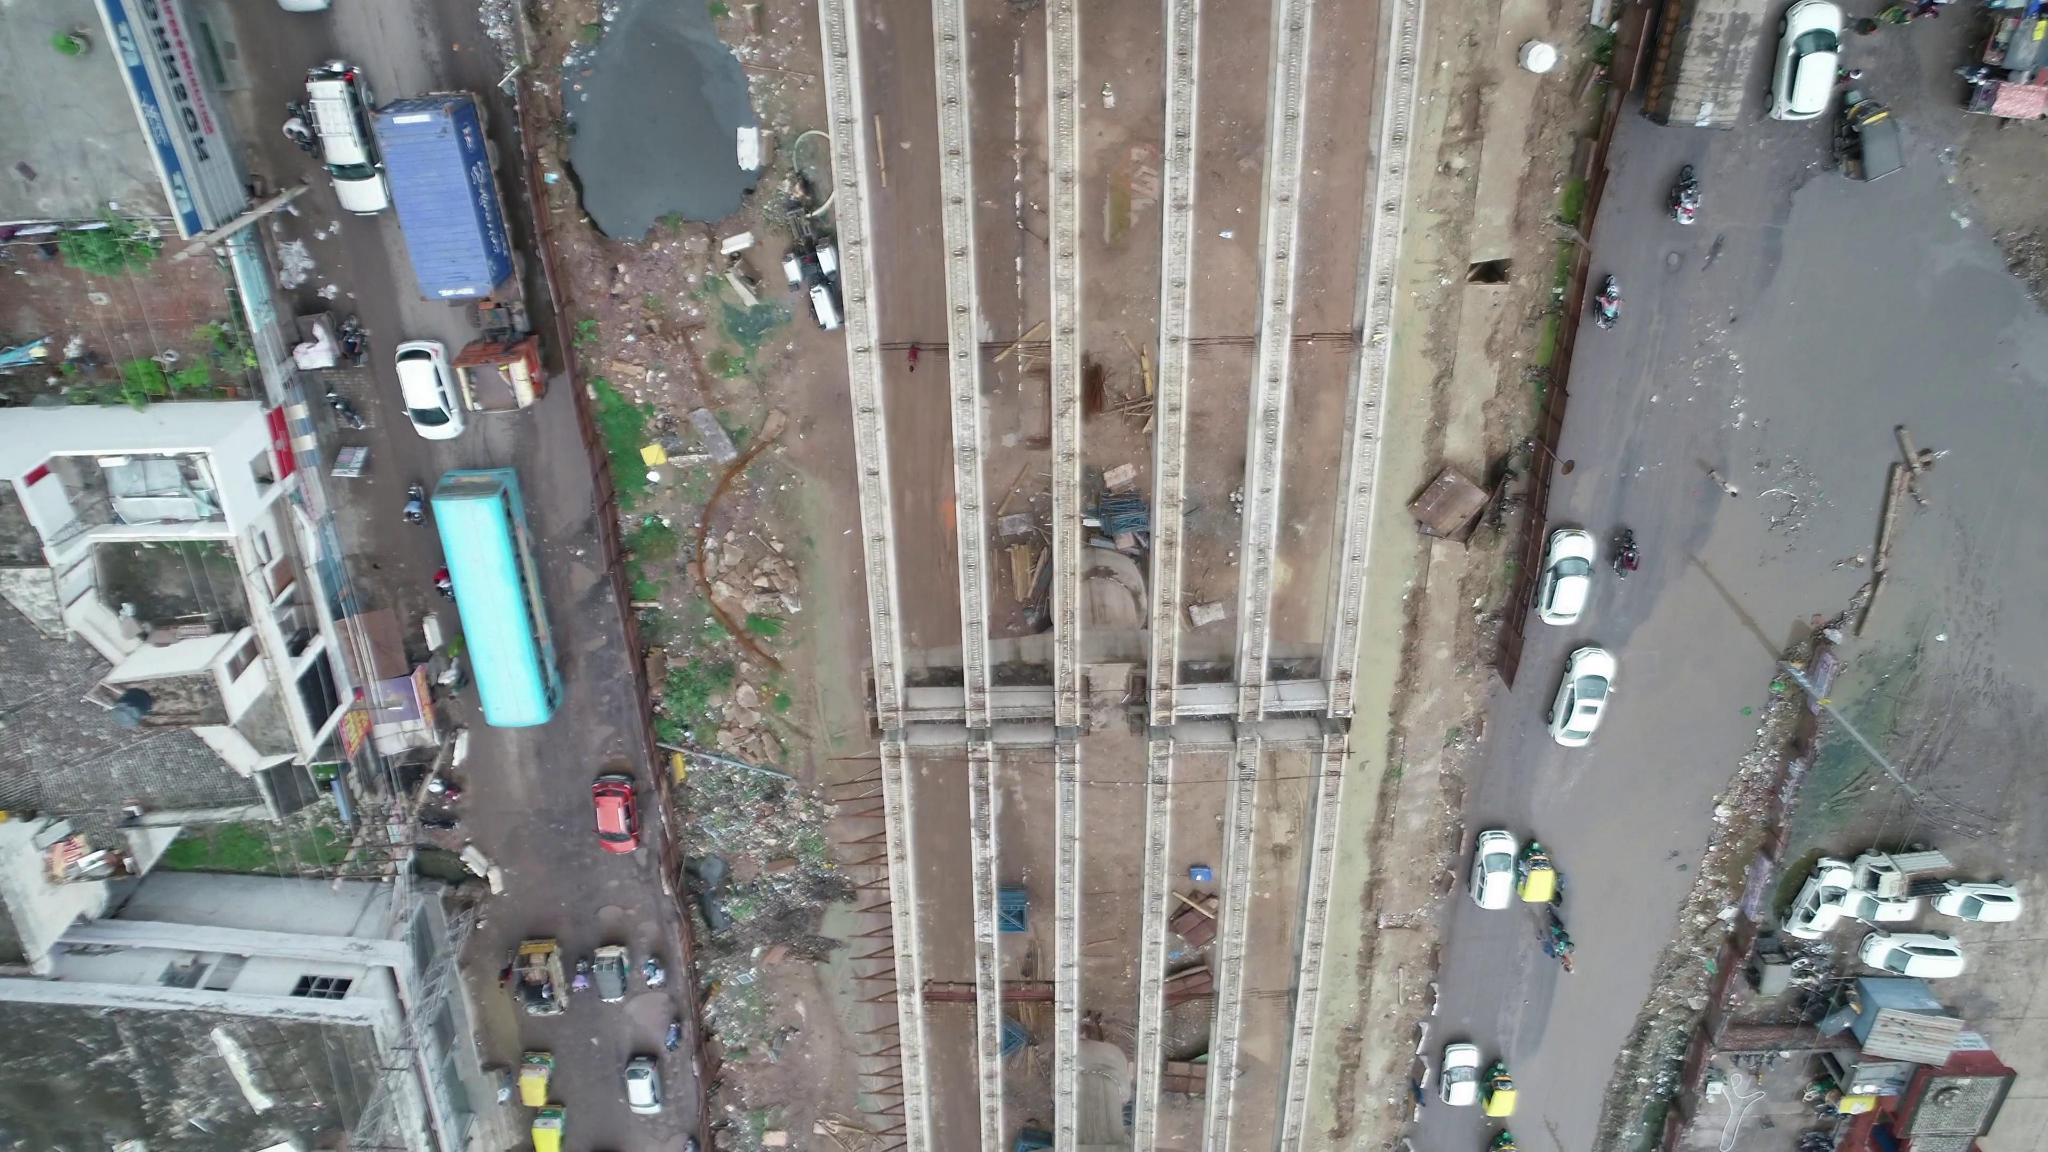Waterlogging: (1694, 200, 2011, 565), (1556, 580, 1779, 942)
